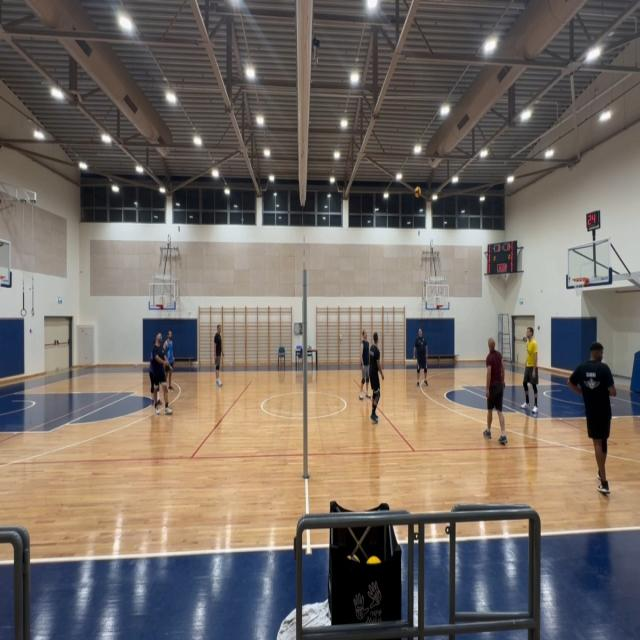volleyball: (414, 186, 421, 198)
